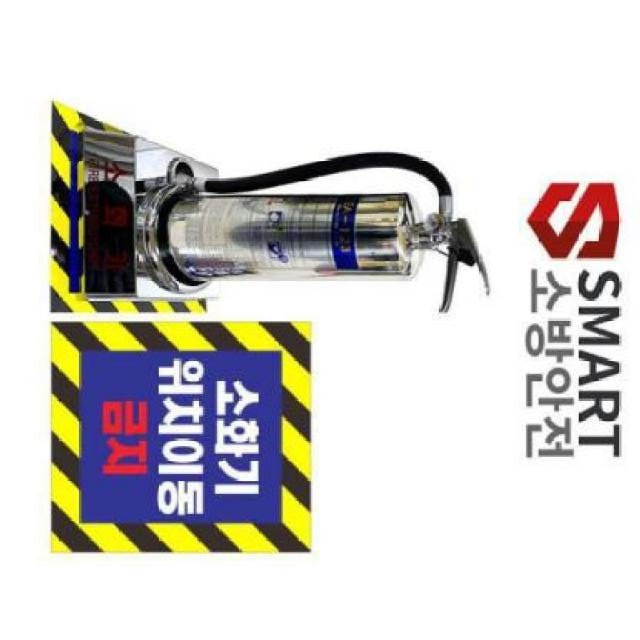fire extinguisher: (165, 151, 491, 314)
